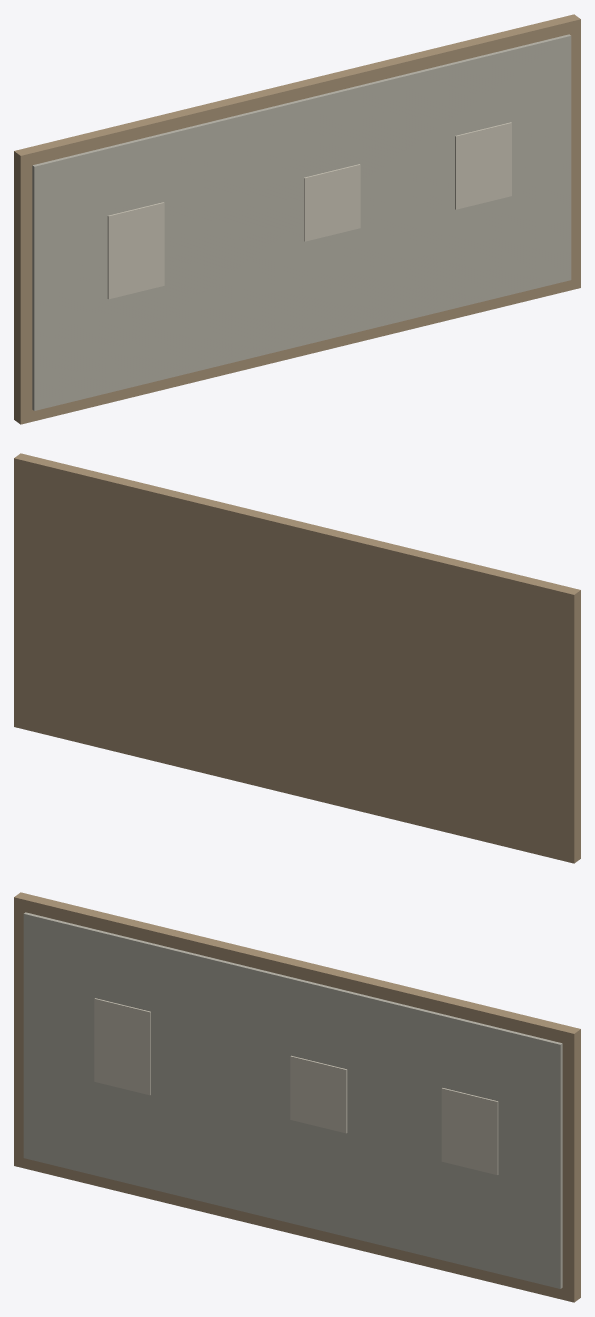
File: mov_9a98e7a863.gltf
3 views of the same model, one above another, from view 1: azimuth 30°, elevation 25°; view 2: azimuth 150°, elevation 25°; view 3: azimuth 330°, elevation 25° (orthographic).
Parts seen in each view (by area): view 1: mov_9a98e7a863; view 2: mov_9a98e7a863; view 3: mov_9a98e7a863.
Boxes of the visible parts, box(x1,y1,x2,y2) form: mov_9a98e7a863: box(14, 14, 580, 424); mov_9a98e7a863: box(14, 453, 580, 863); mov_9a98e7a863: box(14, 892, 580, 1302).
Bounding box in the file's own units: 2.4 × 1.1 × 0.078.
